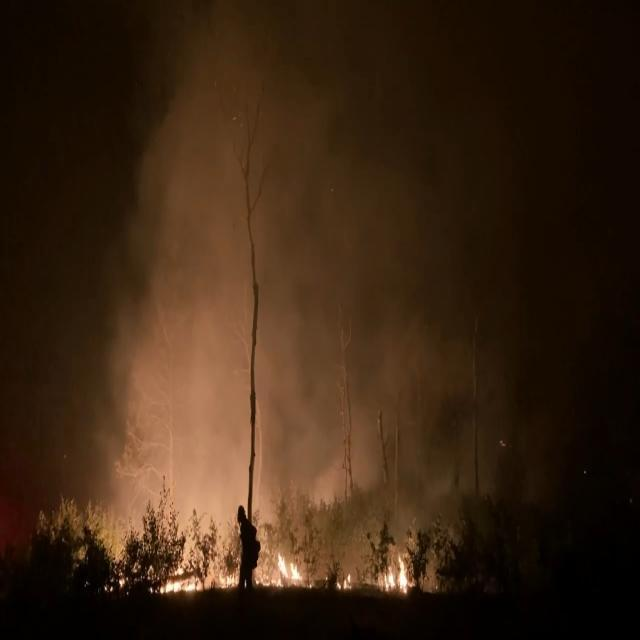Fire: (144, 536, 426, 598)
